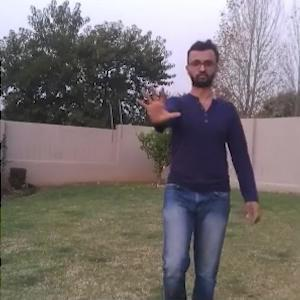follow_hand: (136, 80, 182, 125)
